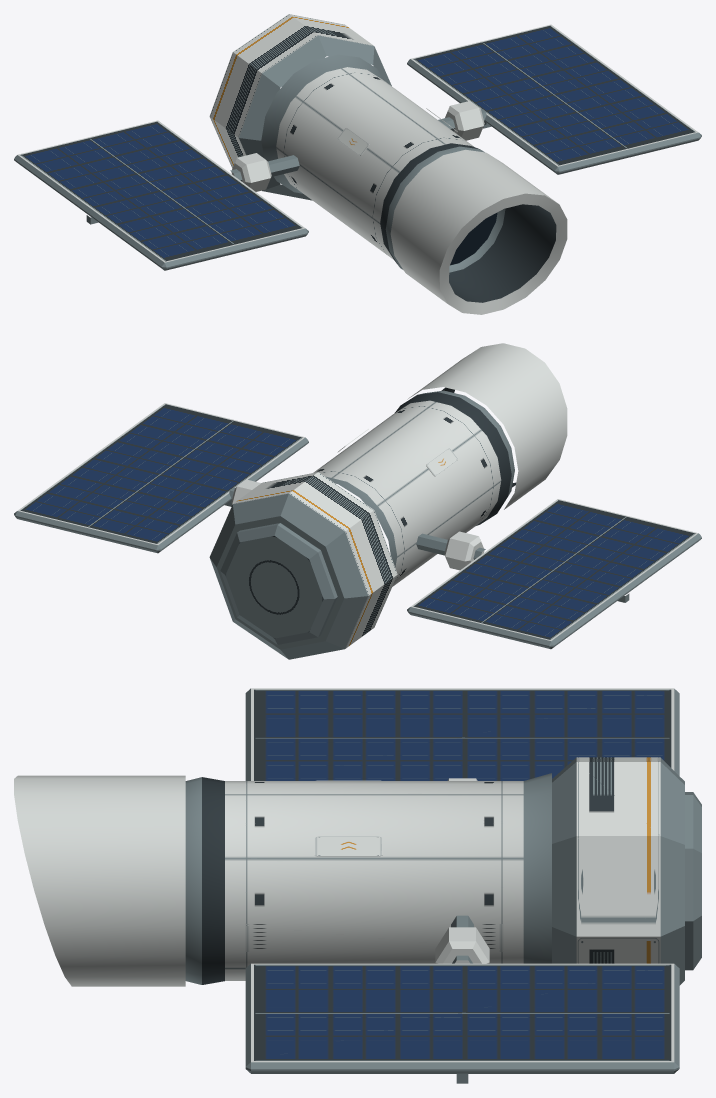
File: Hubble_Telescope_LOD1.glb
3 views of the same model, one above another, from view 1: azimuth 30°, elevation 25°; view 2: azimuth 150°, elevation 25°; view 3: azimuth 270°, elevation 25° (orthographic). The views are drawn at different scales.
Visible parts, largest first — view 1: Telescope_Body, Solar_Panel_L, Solar_Panel_R; view 2: Telescope_Body, Solar_Panel_L, Solar_Panel_R; view 3: Telescope_Body, Solar_Panel_R, Solar_Panel_L.
Boxes of the visible parts, x1=… form: Telescope_Body: x1=209, y1=14, x2=567, y2=314; Solar_Panel_L: x1=14, y1=120, x2=308, y2=270; Solar_Panel_R: x1=407, y1=24, x2=701, y2=174; Telescope_Body: x1=209, y1=343, x2=567, y2=659; Solar_Panel_L: x1=407, y1=499, x2=701, y2=649; Solar_Panel_R: x1=14, y1=403, x2=308, y2=553; Telescope_Body: x1=14, y1=757, x2=701, y2=986; Solar_Panel_R: x1=245, y1=963, x2=679, y2=1083; Solar_Panel_L: x1=245, y1=688, x2=679, y2=780.
Size of the model in its own units: 6.6 by 1.94 by 5.07.
Materials: 1 (1 with a texture image).
